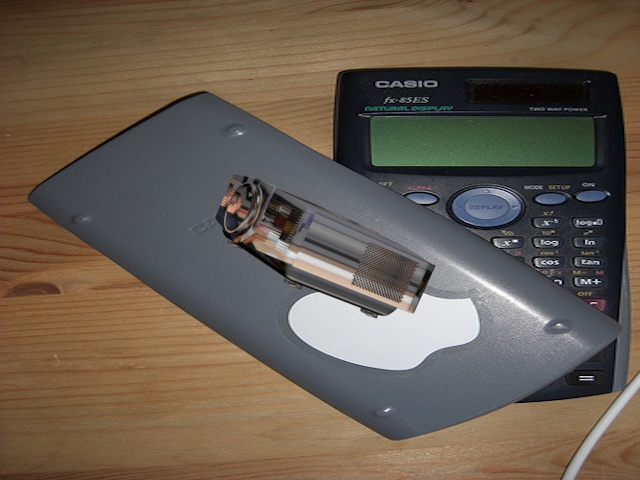projector: (208, 169, 440, 321)
